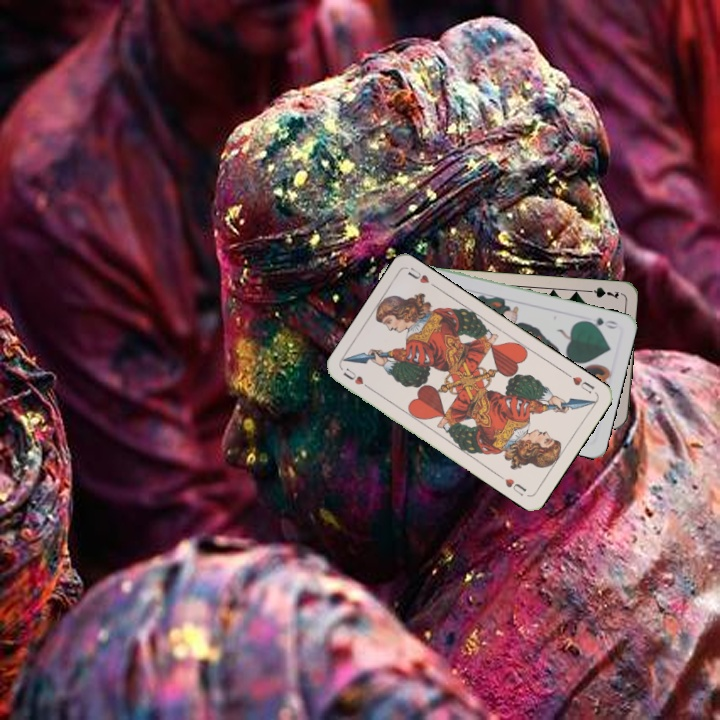G7: (581, 283, 621, 301)
GO: (580, 313, 621, 332)
HU: (339, 364, 374, 393), (562, 369, 597, 396)
